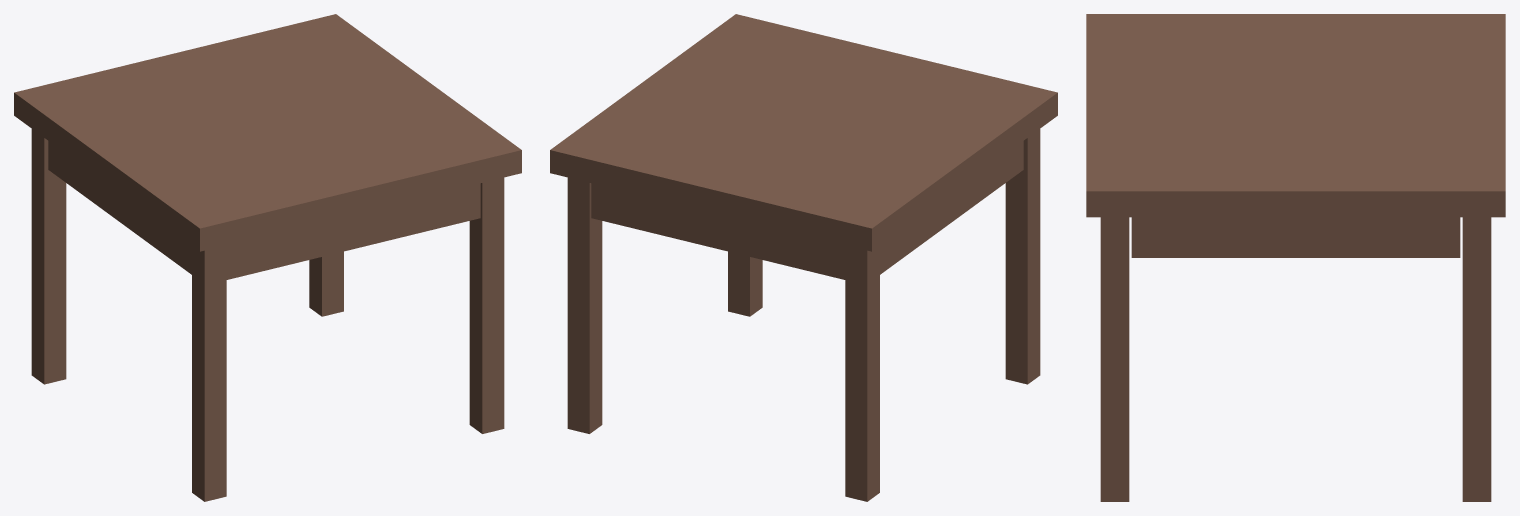
File: ba_xian_table.glb
The picture shows the model from 3 angles, left to right: view 1: azimuth 30°, elevation 25°; view 2: azimuth 150°, elevation 25°; view 3: azimuth 270°, elevation 25°; orthographic projection. The views are drawn at different scales.
Parts seen in each view (by area): view 1: ba_xian_table; view 2: ba_xian_table; view 3: ba_xian_table.
Part boxes in pixels (<box>): ba_xian_table: <box>14,14,521,501</box>; ba_xian_table: <box>550,14,1057,501</box>; ba_xian_table: <box>1086,14,1505,501</box>.
Bounding box in the file's own units: 1.02 × 0.85 × 1.02.
